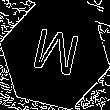M_S: (27, 25, 83, 85)
